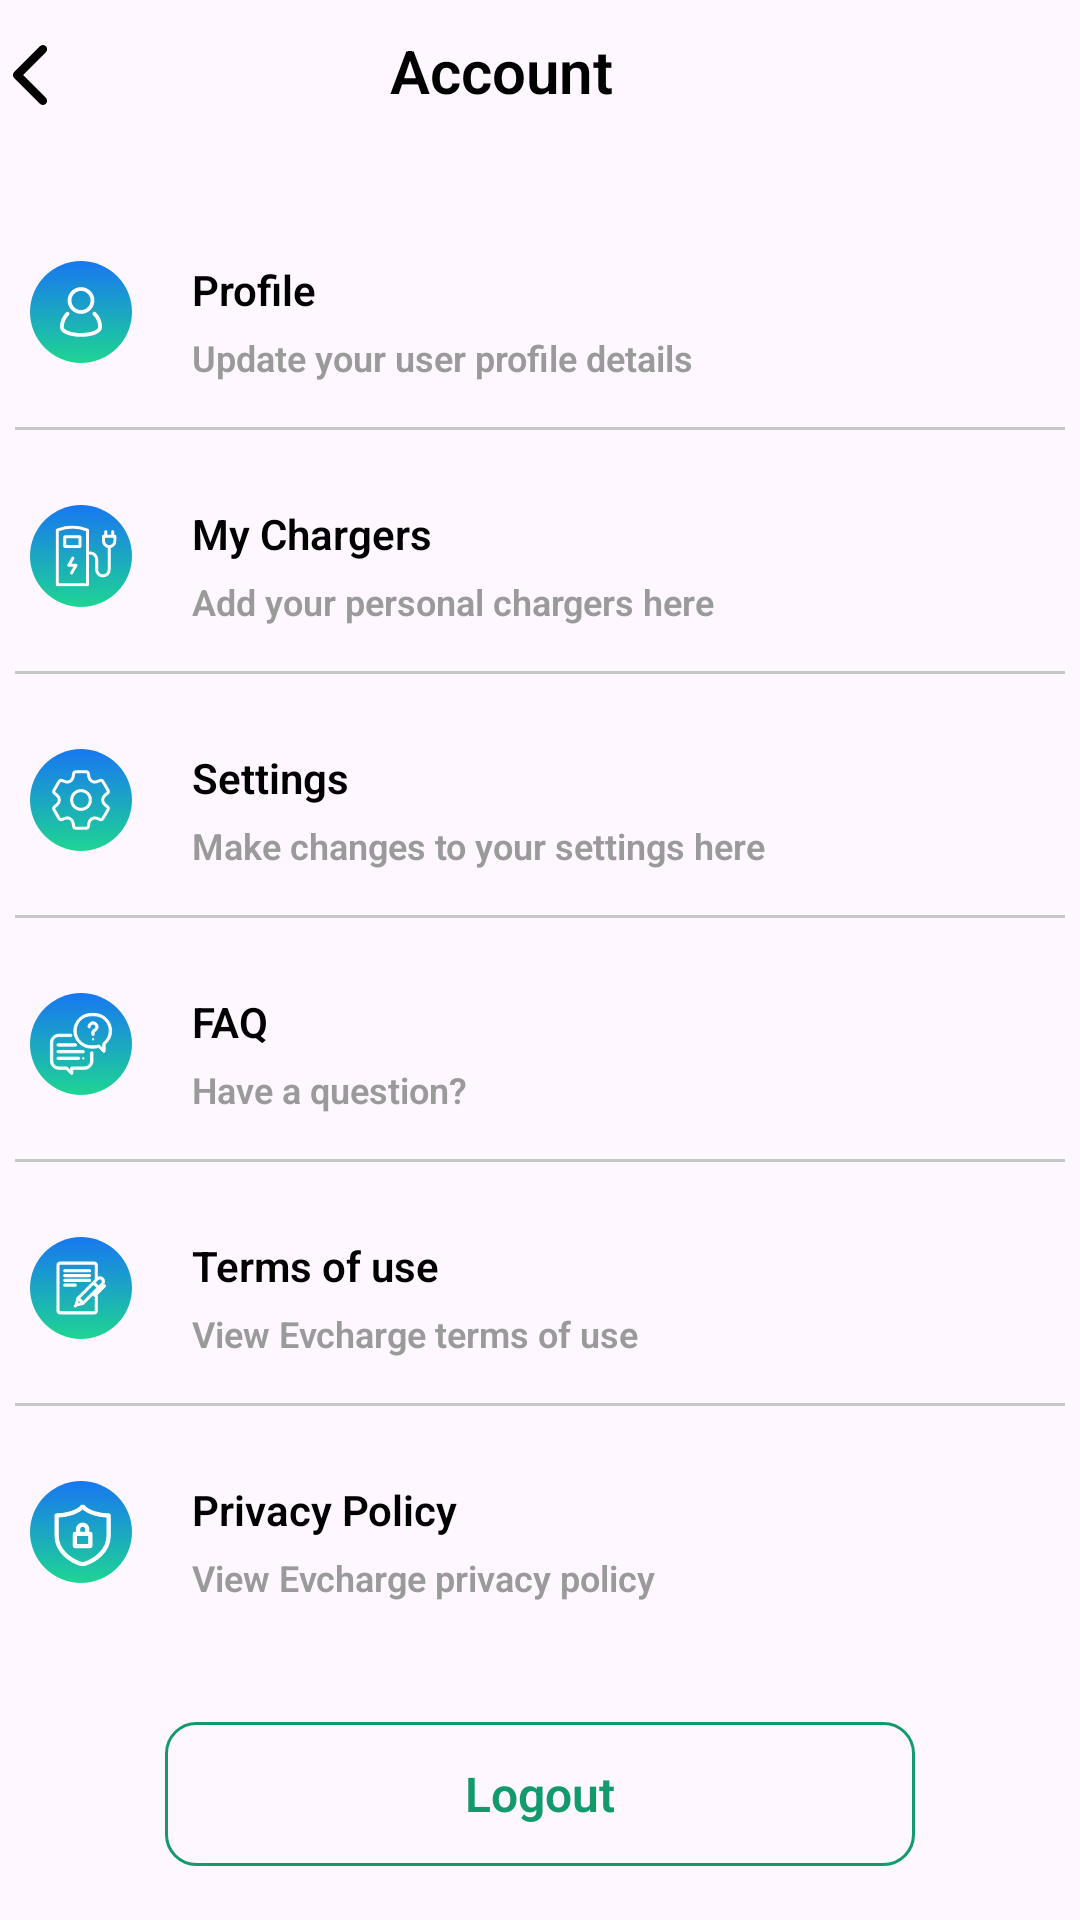

Screen size 1080 × 1920. Icon name, then its box in pixels as rect(x1, y1, x2, y2):
left arrow: rect(13, 45, 47, 105)
